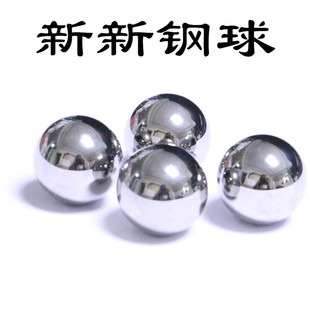ironball: (115, 143, 208, 236), (216, 133, 306, 225), (33, 114, 123, 205), (125, 92, 209, 165)
